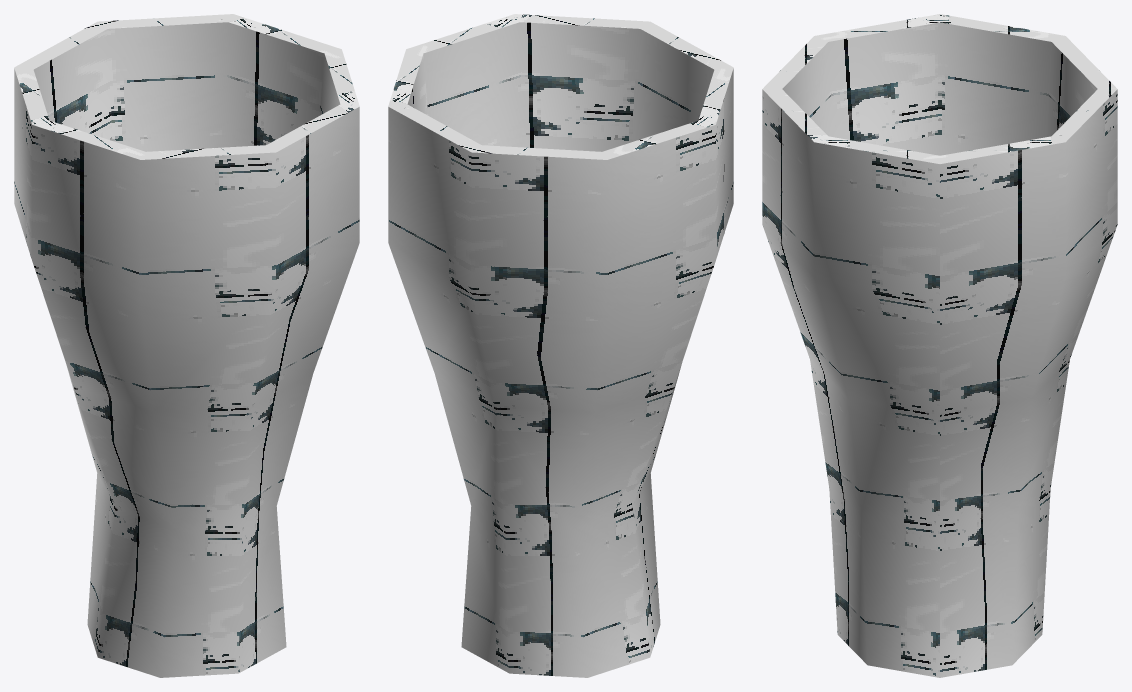
Rendered from PintGlass.FBX.
3 views of the same model, side by side, from view 1: azimuth 30°, elevation 25°; view 2: azimuth 150°, elevation 25°; view 3: azimuth 270°, elevation 25° (orthographic).
Parts seen in each view (by area): view 1: PintGlass; view 2: PintGlass; view 3: PintGlass.
Boxes of the visible parts, box(x1,y1,x2,y2) form: PintGlass: box(14, 14, 359, 677); PintGlass: box(388, 14, 733, 677); PintGlass: box(762, 14, 1117, 677).
Size of the model in its own units: 0.4795 by 0.4795 by 0.812.
1 material, 1 textured.
